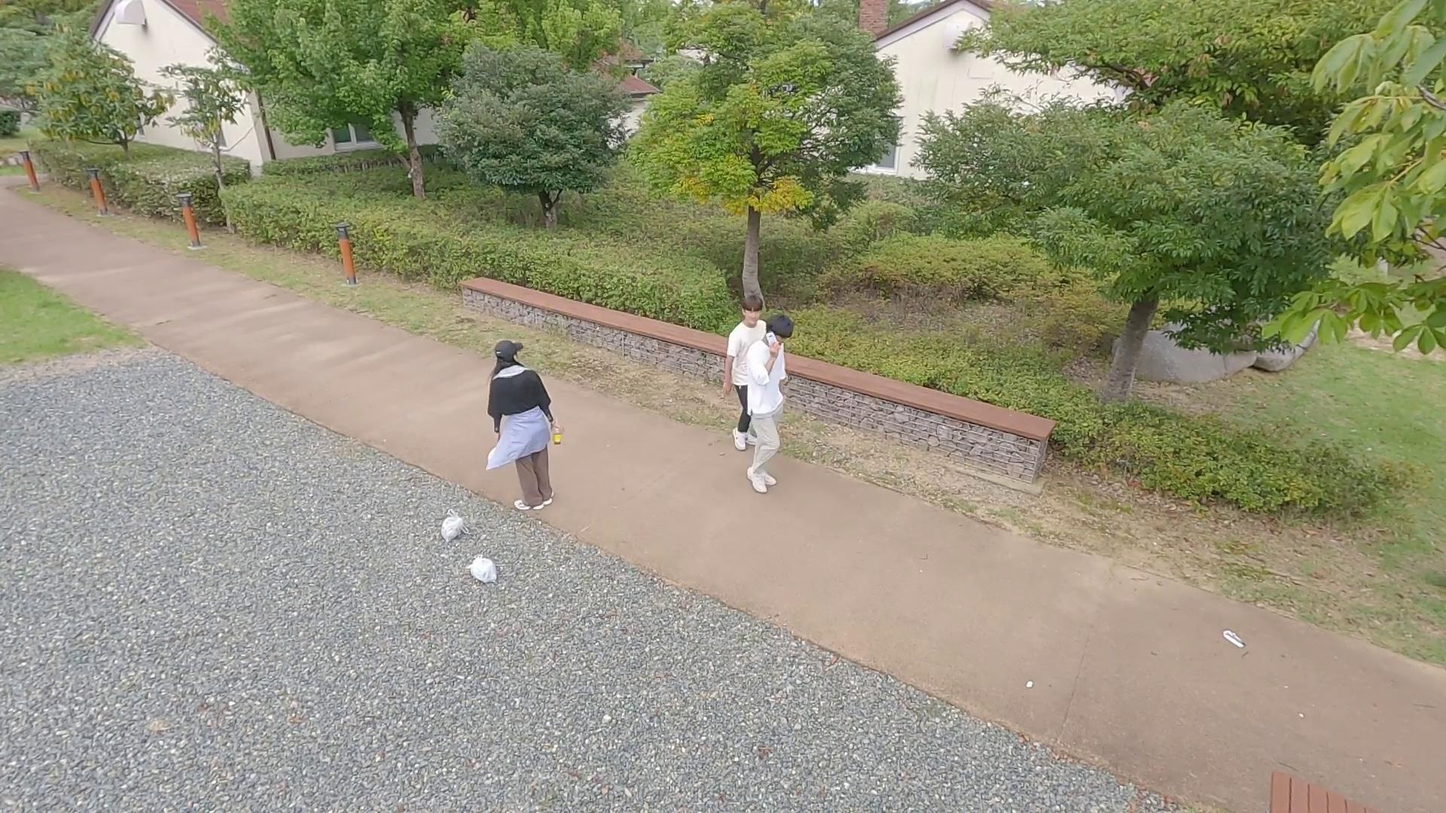person: (477, 335, 568, 518), (723, 293, 779, 465), (744, 308, 793, 500)
trash: (437, 509, 469, 544), (469, 553, 499, 585), (544, 418, 570, 449)
